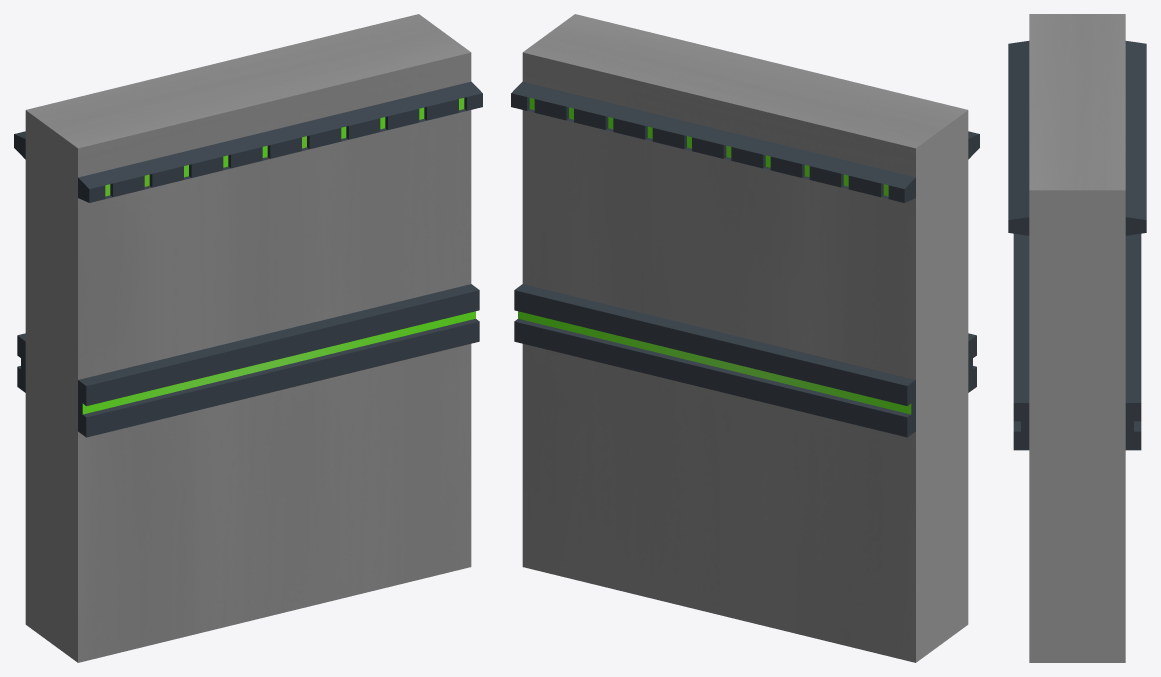
Rendered from wall blank.fbx.
3 renders of one model, left to right at view 1: azimuth 30°, elevation 25°; view 2: azimuth 150°, elevation 25°; view 3: azimuth 270°, elevation 25°, orthographic. The views are drawn at different scales.
Parts seen in each view (by area): view 1: polySurface32; view 2: polySurface32; view 3: polySurface32.
Part boxes in pixels (left/top/right/bottom): polySurface32: left=14, top=14, right=482, bottom=662; polySurface32: left=511, top=14, right=979, bottom=662; polySurface32: left=1008, top=14, right=1146, bottom=662.
Bounding box in the file's own units: 2.21 × 2.77 × 0.7336.
